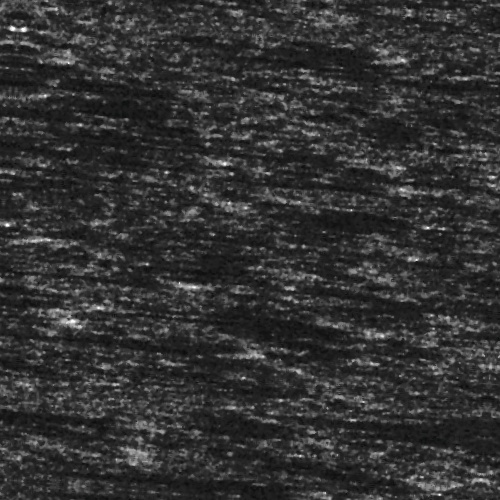object: (0, 327, 180, 340), (207, 342, 290, 363), (349, 310, 442, 327), (299, 143, 382, 158), (436, 407, 500, 424), (0, 248, 79, 261), (137, 284, 230, 293), (358, 170, 421, 181), (44, 315, 117, 324), (469, 415, 500, 432), (131, 428, 194, 435), (375, 54, 458, 59), (326, 481, 367, 488), (0, 41, 30, 50), (0, 238, 30, 247), (385, 205, 416, 212), (0, 184, 21, 191), (357, 39, 368, 46)
shadow: (21, 143, 340, 158), (161, 310, 395, 327), (357, 397, 500, 422), (87, 342, 248, 363), (352, 407, 500, 424), (387, 415, 500, 432), (233, 170, 390, 181), (0, 284, 184, 293), (114, 481, 346, 488), (1, 428, 162, 435), (0, 327, 86, 340), (203, 39, 362, 46), (245, 205, 401, 212), (259, 54, 417, 59), (0, 315, 80, 324), (457, 111, 500, 122), (420, 395, 500, 400)
